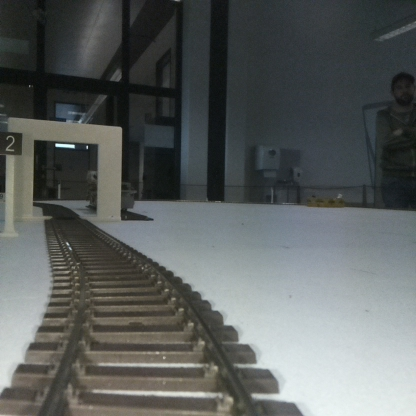black-info-2: (0, 134, 21, 237)
